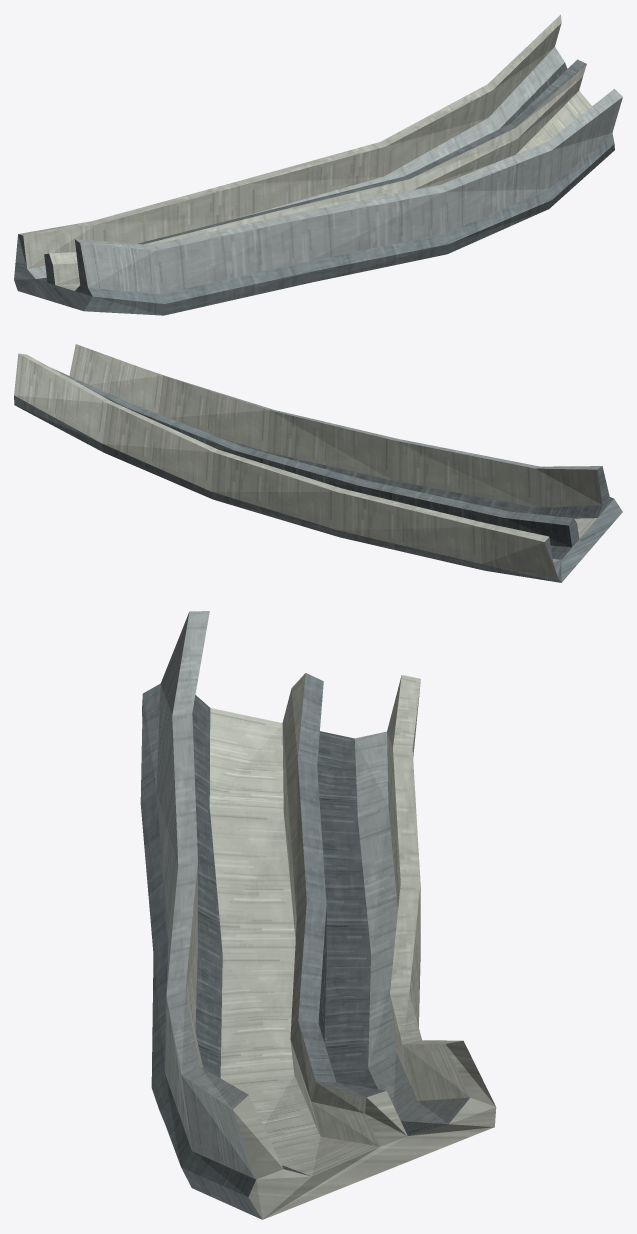
Rendered from debris_track_bent_offcut.glb.
3 views of the same model, one above another, from view 1: azimuth 30°, elevation 25°; view 2: azimuth 150°, elevation 25°; view 3: azimuth 270°, elevation 25° (orthographic). The views are drawn at different scales.
Parts seen in each view (by area): view 1: Bent Aluminum Track Offcut; view 2: Bent Aluminum Track Offcut; view 3: Bent Aluminum Track Offcut.
Part boxes in pixels (x1,y1,x2,y2): Bent Aluminum Track Offcut: (14, 14, 622, 315); Bent Aluminum Track Offcut: (14, 344, 622, 582); Bent Aluminum Track Offcut: (140, 611, 496, 1219).
Size of the model in its own units: 0.2448 by 0.055 by 0.0719.
Materials: 1 (1 with a texture image).
